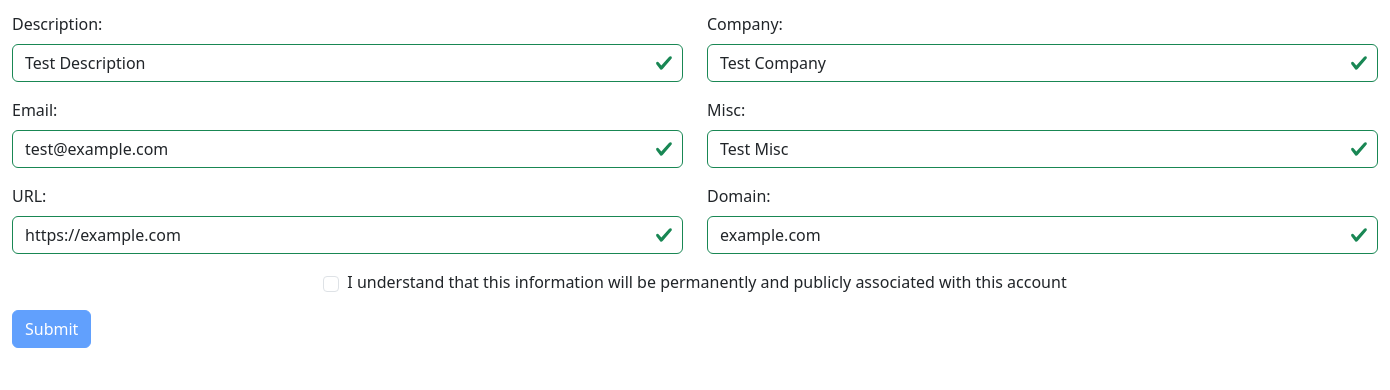
Test case: EditAccountForm › validates domain format
Replace the text in the field labelled "Domain:" with "invalid domain": [1042, 235] box [707,216,1378,254]
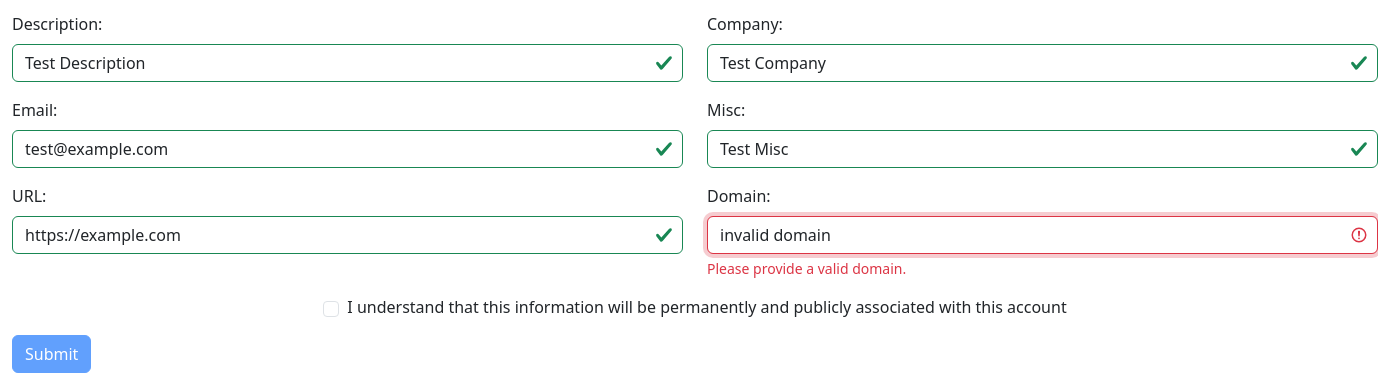
Expected: the text "Please provide a valid domain." is shown, [707,259,906,278]
